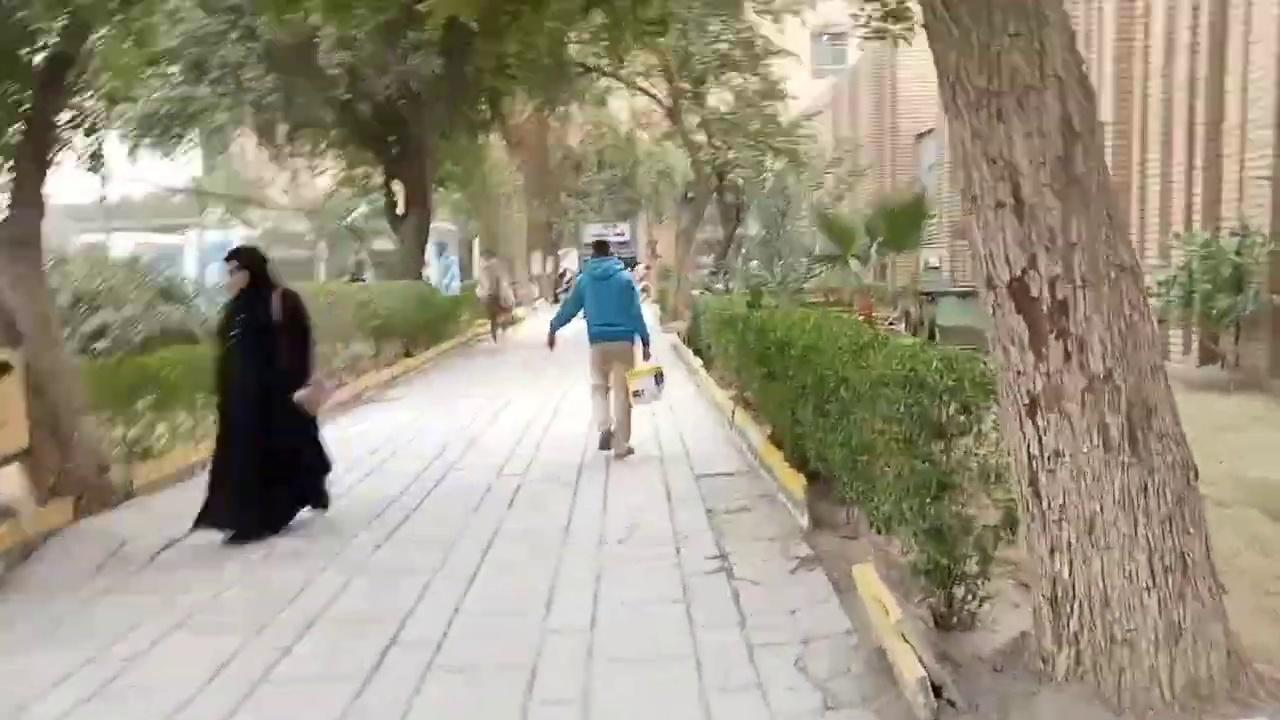person: (192, 244, 332, 544), (546, 239, 651, 458), (476, 248, 514, 343)
tree: (911, 0, 1264, 715), (245, 0, 571, 283), (0, 0, 173, 509), (560, 0, 823, 326), (1151, 223, 1267, 369)
